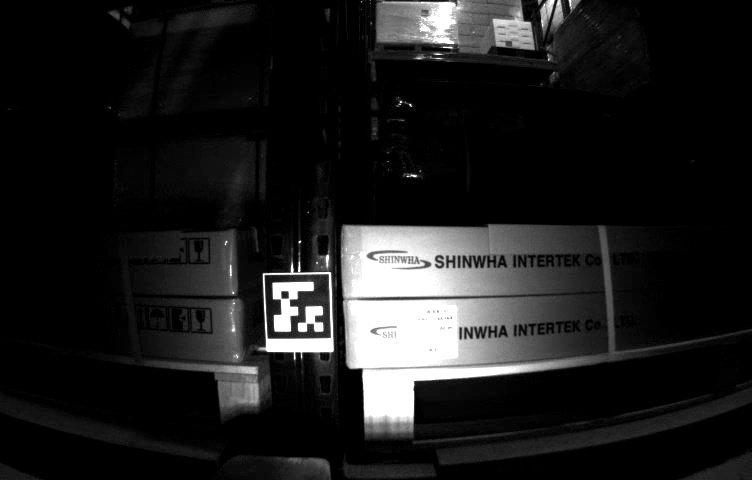True Barcode: (402, 305, 459, 360)
